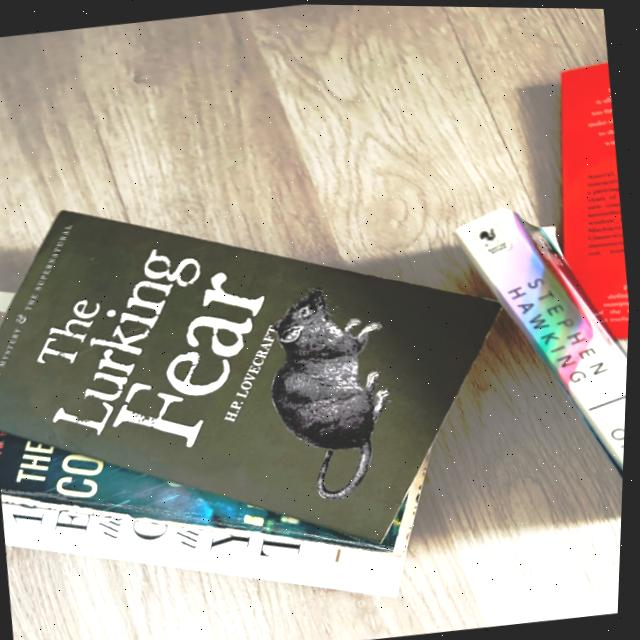Book: (0, 213, 506, 543), (5, 458, 432, 596), (0, 429, 414, 552), (455, 208, 630, 475), (561, 61, 631, 335)
